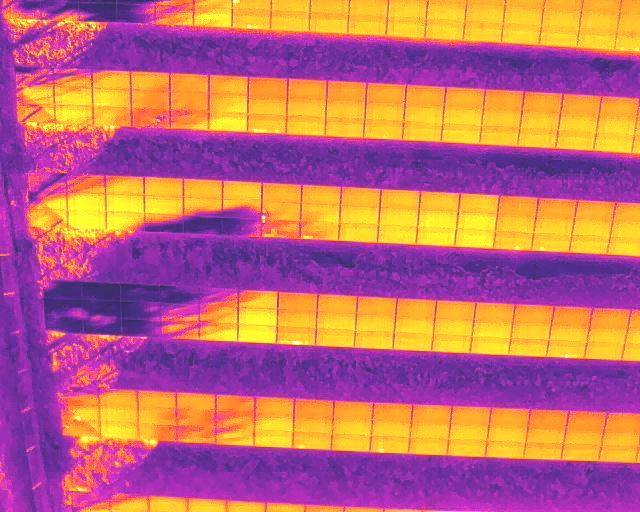Cell: (365, 119, 403, 139), (494, 232, 534, 250), (294, 432, 332, 450), (370, 436, 408, 454), (62, 420, 100, 435), (62, 405, 99, 420)
Cell-Multi: (232, 8, 270, 29), (248, 114, 287, 133), (277, 325, 315, 344), (532, 235, 573, 252), (301, 221, 339, 239), (547, 340, 586, 357), (262, 202, 300, 219), (262, 220, 300, 237), (525, 442, 562, 459)
No-Anomaly: (503, 2, 544, 23), (271, 10, 310, 32), (578, 27, 616, 49), (348, 14, 386, 36), (580, 7, 619, 28), (466, 0, 504, 21), (310, 12, 348, 33), (444, 104, 483, 124), (426, 19, 465, 39), (193, 6, 232, 26), (131, 89, 170, 109), (387, 16, 424, 37), (465, 21, 502, 42), (543, 5, 580, 26), (209, 112, 247, 132), (403, 121, 441, 141), (519, 128, 557, 148), (596, 133, 634, 153), (302, 186, 340, 206), (455, 230, 495, 249), (325, 117, 363, 137), (93, 106, 132, 125), (326, 98, 365, 117), (442, 124, 481, 143), (542, 26, 579, 46), (457, 212, 498, 230), (503, 24, 541, 43), (279, 292, 317, 311), (600, 97, 638, 116), (405, 103, 443, 122), (481, 126, 519, 145), (558, 131, 596, 150), (209, 75, 247, 94), (287, 116, 325, 135), (575, 201, 615, 219), (569, 236, 609, 254), (458, 194, 500, 211), (560, 111, 597, 130), (316, 329, 355, 347), (355, 331, 394, 349), (393, 333, 432, 351), (366, 101, 405, 119), (513, 304, 552, 322), (436, 300, 475, 318), (341, 189, 380, 207), (222, 182, 261, 200), (536, 200, 575, 218), (378, 226, 417, 244), (490, 408, 529, 426), (248, 77, 287, 95), (288, 79, 327, 97), (106, 176, 145, 194), (406, 85, 445, 103), (427, 0, 466, 18), (409, 438, 448, 456), (332, 434, 371, 452), (379, 190, 420, 207), (419, 194, 460, 211), (498, 197, 539, 214), (238, 325, 276, 343), (248, 96, 286, 114), (512, 322, 550, 340), (287, 97, 325, 115), (521, 110, 559, 128), (483, 107, 521, 125), (278, 309, 316, 327), (100, 406, 138, 424), (412, 405, 450, 423), (144, 179, 182, 197), (68, 210, 106, 228), (144, 197, 182, 215), (255, 430, 293, 448), (238, 308, 278, 325), (495, 216, 537, 232), (552, 306, 589, 324), (475, 303, 512, 321), (137, 391, 176, 408), (317, 295, 356, 312), (523, 93, 562, 110), (209, 95, 248, 112), (316, 312, 355, 329), (356, 313, 395, 330), (590, 308, 629, 325), (397, 299, 436, 316), (183, 180, 222, 197), (262, 184, 301, 201), (106, 195, 145, 212), (379, 209, 418, 226), (340, 207, 379, 224), (340, 225, 379, 242), (169, 74, 208, 91), (131, 71, 170, 88), (366, 83, 405, 100), (445, 87, 484, 104), (484, 89, 523, 106), (488, 425, 527, 442), (571, 220, 612, 236), (533, 218, 574, 234), (587, 341, 623, 359), (510, 339, 548, 356), (471, 337, 509, 354), (99, 390, 137, 407), (562, 94, 600, 111), (171, 92, 209, 109), (295, 400, 333, 417), (334, 402, 372, 419), (567, 412, 605, 429), (530, 410, 568, 427), (301, 204, 339, 221), (93, 72, 131, 89), (255, 415, 293, 432), (598, 115, 636, 132), (388, 0, 426, 17), (411, 423, 449, 440), (450, 424, 488, 441), (563, 443, 601, 460), (176, 393, 216, 409), (418, 212, 458, 228), (416, 229, 456, 245), (433, 335, 470, 352), (372, 420, 409, 437), (396, 316, 435, 332), (357, 297, 396, 313), (255, 397, 294, 413), (137, 409, 176, 425), (67, 194, 106, 210), (327, 81, 366, 97), (600, 446, 639, 462), (486, 441, 525, 457), (149, 494, 188, 510), (588, 326, 626, 342), (473, 322, 511, 338), (373, 403, 411, 419), (434, 319, 472, 335), (550, 324, 588, 340), (452, 407, 490, 423), (93, 89, 131, 105), (332, 419, 370, 435), (527, 427, 565, 443), (448, 440, 486, 456), (603, 430, 640, 446), (101, 422, 138, 438), (294, 417, 332, 432), (606, 413, 639, 430), (565, 428, 602, 443), (349, 0, 387, 14)
Shadowing: (170, 110, 208, 130), (132, 108, 170, 128), (55, 104, 93, 124), (117, 4, 155, 24), (222, 200, 261, 219), (156, 5, 193, 25), (16, 68, 54, 87), (17, 104, 54, 123), (30, 211, 67, 230), (44, 281, 83, 299), (216, 412, 255, 430), (222, 219, 261, 237), (200, 323, 238, 341), (183, 198, 221, 216), (72, 494, 110, 512), (121, 284, 161, 301), (122, 302, 162, 319), (201, 287, 238, 305), (162, 321, 199, 339), (79, 3, 116, 21), (83, 282, 120, 300), (39, 2, 78, 19), (44, 300, 83, 317), (176, 410, 215, 427), (183, 217, 222, 234), (215, 429, 254, 446), (83, 317, 121, 334), (67, 176, 105, 193), (29, 176, 67, 193), (144, 215, 182, 232), (55, 87, 93, 104), (238, 291, 278, 307), (162, 303, 199, 320), (29, 193, 66, 210), (106, 212, 143, 229), (55, 69, 92, 86), (177, 426, 216, 442), (3, 1, 39, 18), (161, 286, 199, 302), (61, 390, 99, 406), (216, 395, 254, 411), (17, 87, 55, 103), (110, 495, 148, 511), (122, 320, 162, 335), (200, 306, 237, 322), (84, 300, 121, 316), (139, 425, 177, 440), (45, 317, 83, 330)
